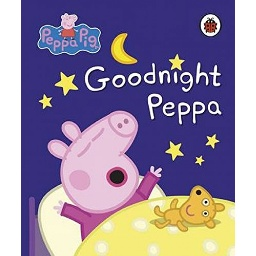Peppa: (47, 109, 163, 242)
